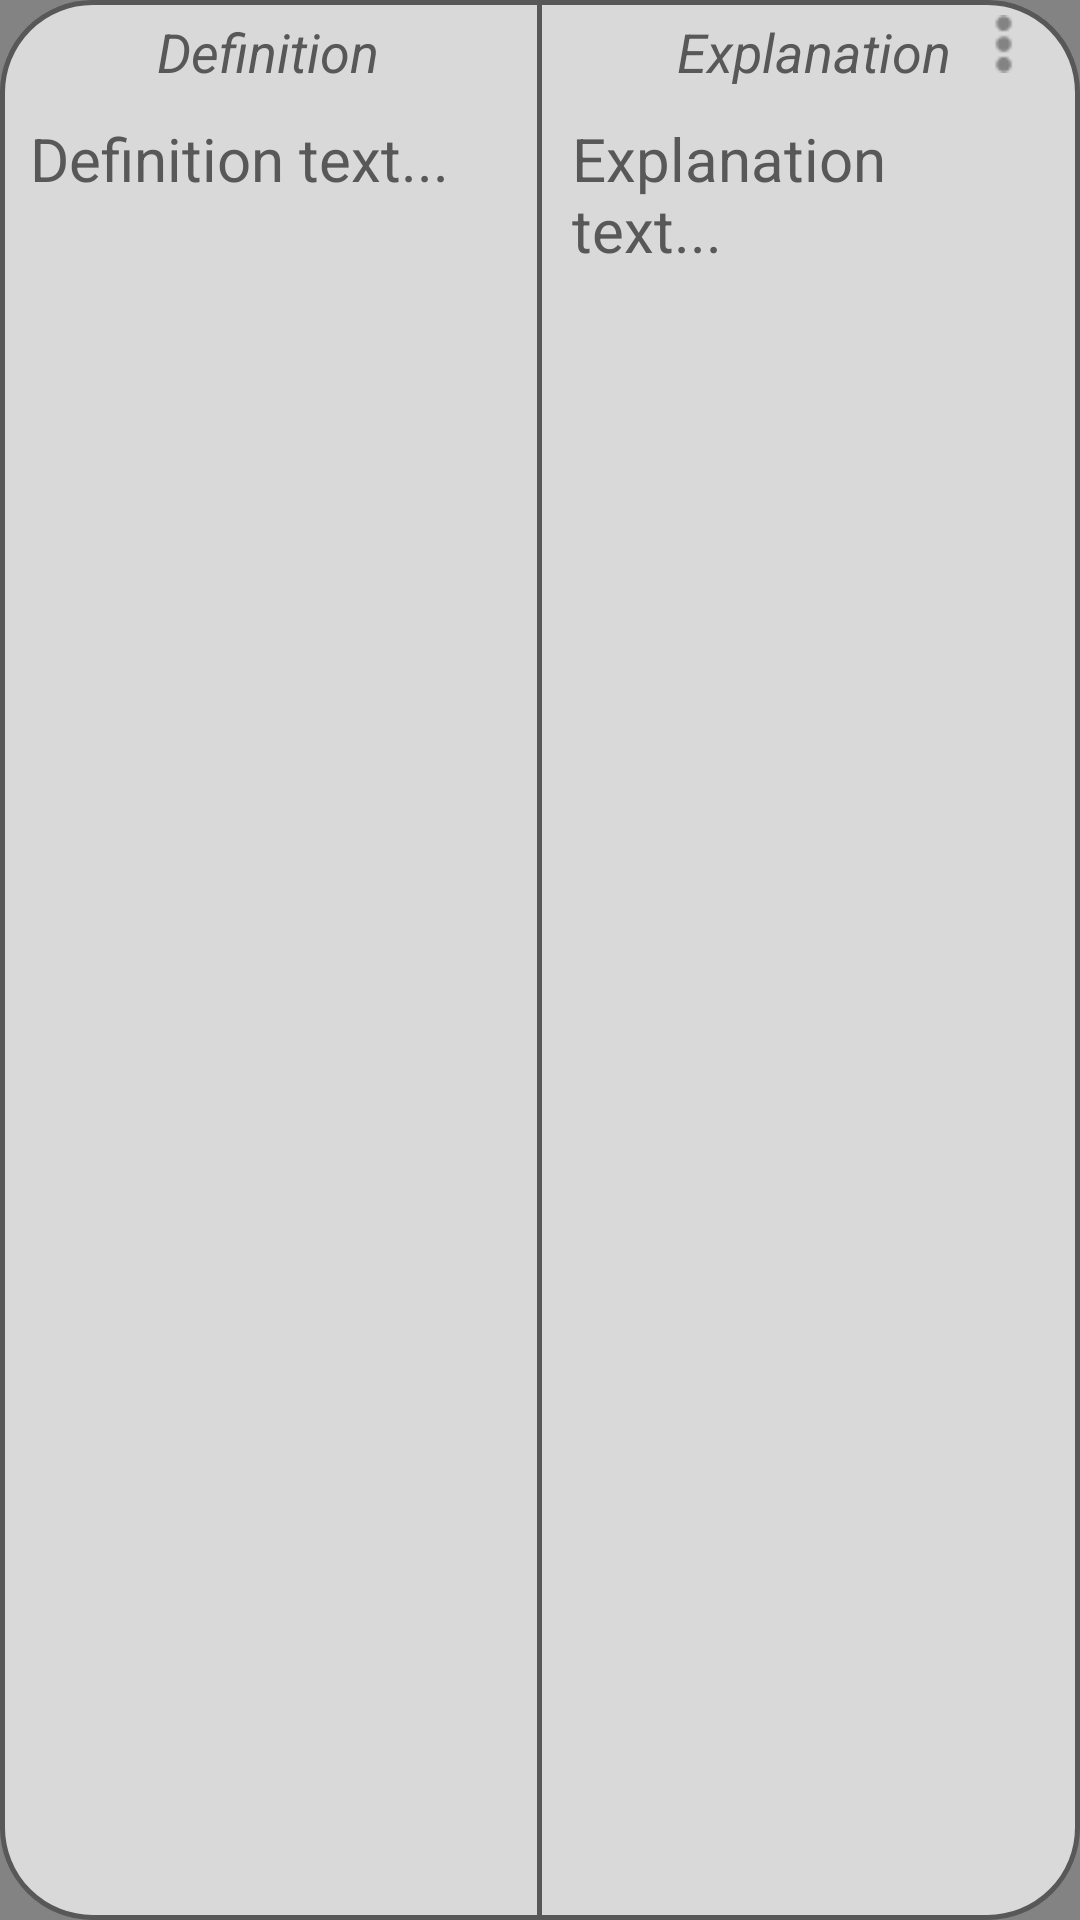

Screen size 1080 × 1920. Icon name, then its box in pixels as (x1, y1, x2, y2):
options menu: (995, 15, 1012, 73)
